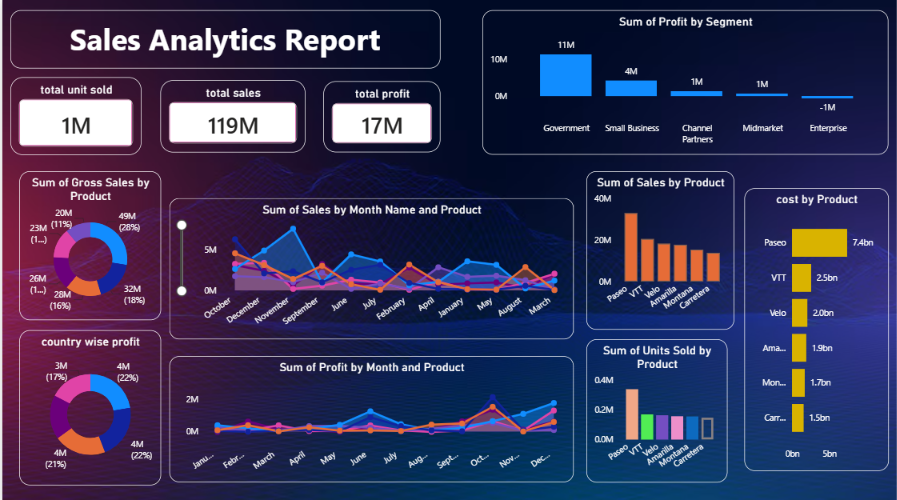

Layout of this report page (visuals, bound fields, positions):
{"tool":"powerbi","page":{"name":"Page 1","canvas":[1280,720],"ordinal":0},"visuals":[{"type":"columnChart","fields":{"Category":["financials.Product"],"Y":["Sum(financials.Sales)"]},"box":[833.8,246.2,211.2,226.2],"z":0},{"type":"clusteredColumnChart","fields":{"Category":["financials.Product"],"Y":["Sum(financials.Units Sold)"]},"box":[833.8,485,201.2,205],"z":1000},{"type":"areaChart","fields":{"Y":["Sum(financials.Sales)"],"Category":["Sheet1.Month Name"],"Series":["financials.Product"]},"box":[238.8,283.8,577.5,201.2],"z":2000},{"type":"cardVisual","title":"total sales","fields":{"Data":["Sum(financials.Sales)"]},"box":[225.7,115.7,207.1,102.9],"z":3000},{"type":"clusteredBarChart","fields":{"Category":["financials.Product"],"Y":["financials.cost"]},"box":[1060,270,206.2,403.8],"z":4000},{"type":"clusteredColumnChart","fields":{"Category":["Sheet1.Segment"],"Y":["Sum(financials.Profit)"]},"box":[686.2,16.2,580,206.2],"z":5000},{"type":"areaChart","fields":{"Y":["Sum(Sheet1.Profit)"],"Category":["Sheet1.Date.Variation.Date Hierarchy.Month"],"Series":["financials.Product"]},"box":[238.8,510,577.5,180],"z":6000},{"type":"cardVisual","title":"total unit sold","fields":{"Data":["Sum(financials.Units Sold)"]},"box":[11.4,111.4,187.1,111.4],"z":7000},{"type":"cardVisual","title":"total profit","fields":{"Data":["Sum(financials.Profit)"]},"box":[458.6,117.1,167.1,101.4],"z":8000},{"type":"textbox","box":[11.4,15.7,614.3,82.9],"z":9000},{"type":"donutChart","title":"country wise profit","fields":{"Category":["Sheet1.Country"],"Y":["Sum(Sheet1.Profit)"]},"box":[23.8,472.5,202.5,221.2],"z":10000},{"type":"donutChart","fields":{"Y":["Sum(Sheet1.Gross Sales)"],"Category":["financials.Product"]},"box":[23.8,246.2,202.5,212.5],"z":11000}]}

Visuals, with their boxes in screenshot pixels (x1, y1, x2, y2), scaled from the page's 1280x720 canvas onto the 897x500 screenshot:
columnChart - financials.Product x Sum(financials.Sales): 584/171/732/328
clusteredColumnChart - financials.Product x Sum(financials.Units Sold): 584/337/725/479
areaChart - Sum(financials.Sales) x Sheet1.Month Name: 167/197/572/337
"total sales" cardVisual: 158/80/303/152
clusteredBarChart - financials.Product x financials.cost: 743/188/887/468
clusteredColumnChart - Sheet1.Segment x Sum(financials.Profit): 481/11/887/154
areaChart - Sum(Sheet1.Profit) x Sheet1.Date.Variation.Date Hierarchy.Month: 167/354/572/479
"total unit sold" cardVisual: 8/77/139/155
"total profit" cardVisual: 321/81/438/152
textbox: 8/11/438/68
"country wise profit" donutChart: 17/328/159/482
donutChart - Sum(Sheet1.Gross Sales) x financials.Product: 17/171/159/319
